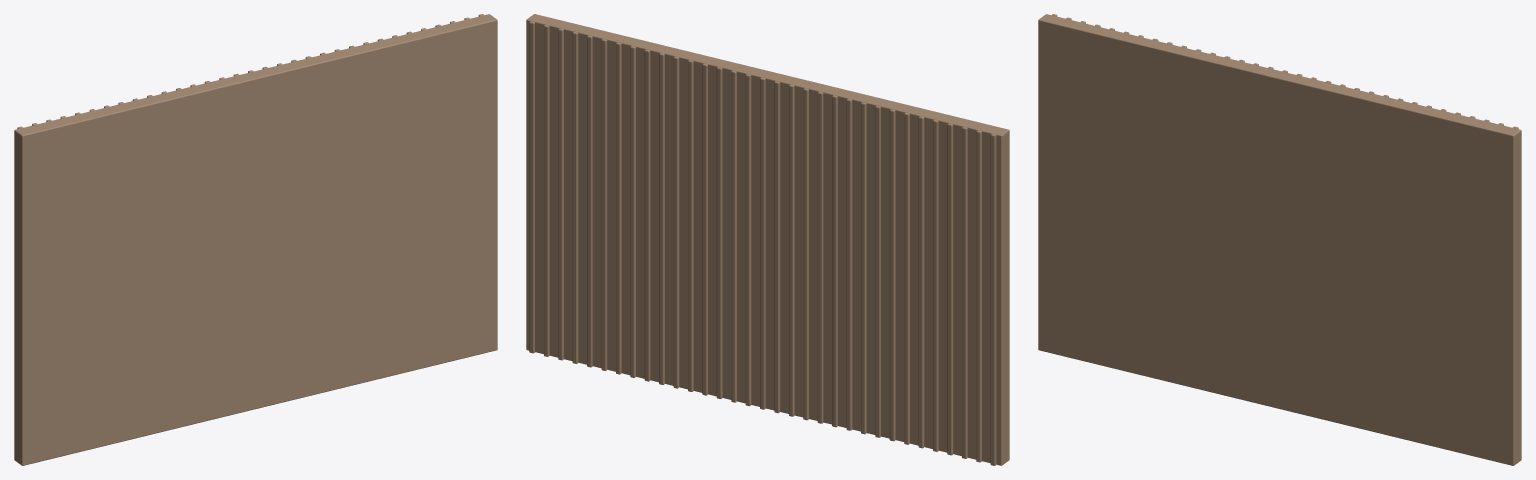
Rendered from DOOR_HORIZONTAL_600x400.glb.
3 renders of one model, left to right at view 1: azimuth 30°, elevation 25°; view 2: azimuth 150°, elevation 25°; view 3: azimuth 330°, elevation 25°, orthographic.
Parts seen in each view (by area): view 1: front_panel_01; view 2: front_panel_01, front_panel_01_rib_023, front_panel_01_rib_001, front_panel_01_rib_004, front_panel_01_rib_006, front_panel_01_rib_008, front_panel_01_rib_011, front_panel_01_rib_013, front_panel_01_rib_016, front_panel_01_rib_018, front_panel_01_rib_025, front_panel_01_rib_030 (+22 smaller); view 3: front_panel_01.
Part boxes in pixels (x1,y1,x2,y2): front_panel_01: (14,14,497,465); front_panel_01: (526,14,1009,465); front_panel_01_rib_023: (673,56,679,388); front_panel_01_rib_001: (990,133,996,465); front_panel_01_rib_004: (947,123,953,455); front_panel_01_rib_006: (918,116,924,448); front_panel_01_rib_008: (889,109,895,441); front_panel_01_rib_011: (846,98,852,430); front_panel_01_rib_013: (817,91,823,423); front_panel_01_rib_016: (774,81,780,413); front_panel_01_rib_018: (745,74,751,406); front_panel_01_rib_025: (644,49,650,381); front_panel_01_rib_030: (572,31,578,363); front_panel_01: (1038,14,1521,465).
Size of the model in its own units: 0.596 by 0.396 by 0.022.
